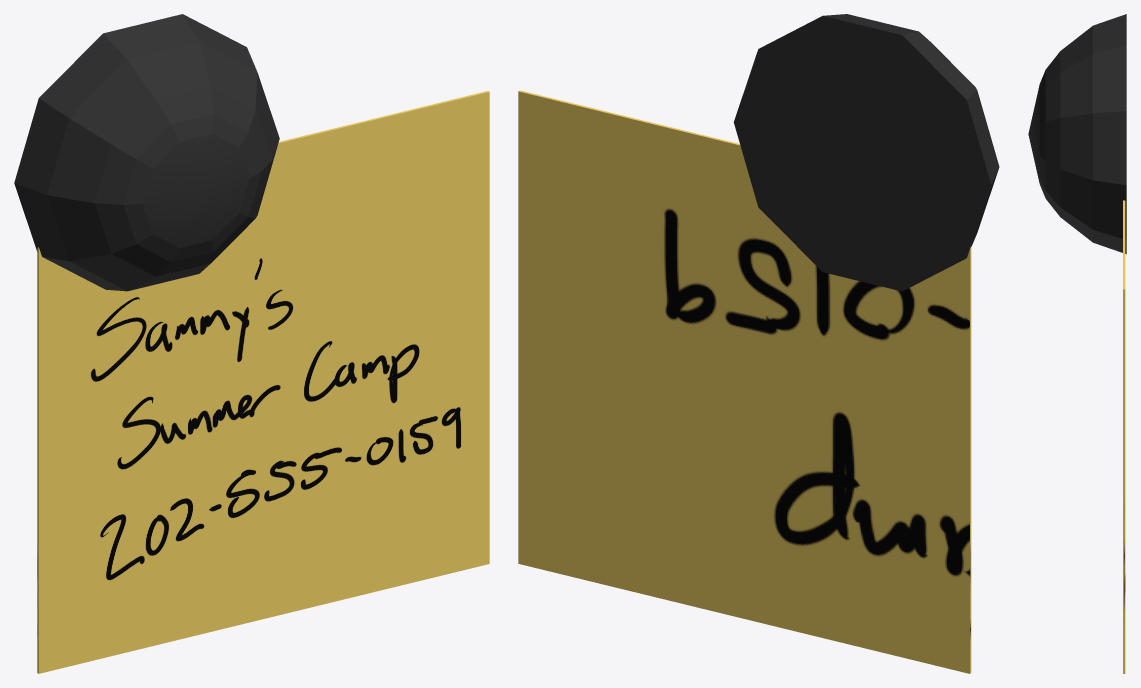
File: StickyNote (1).fbx
3 renders of one model, left to right at view 1: azimuth 30°, elevation 25°; view 2: azimuth 150°, elevation 25°; view 3: azimuth 270°, elevation 25°, orthographic. The views are drawn at different scales.
Parts seen in each view (by area): view 1: StickyNote, Magnet; view 2: StickyNote, Magnet; view 3: Magnet, StickyNote.
Part boxes in pixels (x1=…): StickyNote: x1=37, y1=91, x2=489, y2=673; Magnet: x1=14, y1=14, x2=279, y2=291; StickyNote: x1=518, y1=90, x2=971, y2=673; Magnet: x1=733, y1=14, x2=999, y2=291; Magnet: x1=1028, y1=14, x2=1126, y2=254; StickyNote: x1=1123, y1=200, x2=1125, y2=673.
Bounding box in the file's own units: 0.1936 × 0.2434 × 0.0427.
2 materials, 1 textured.
